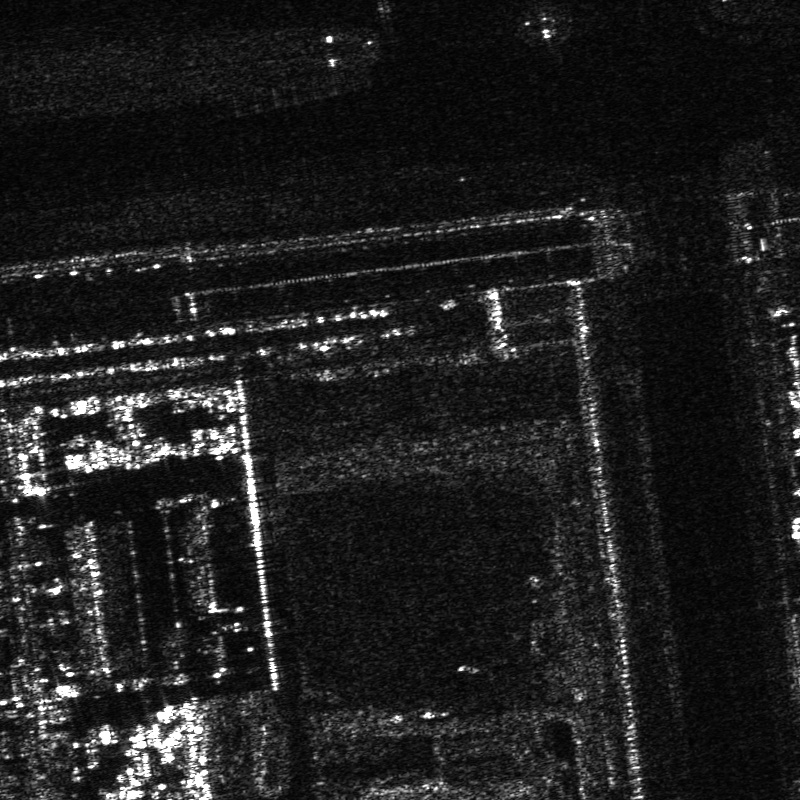A330: (519, 1, 568, 44)
